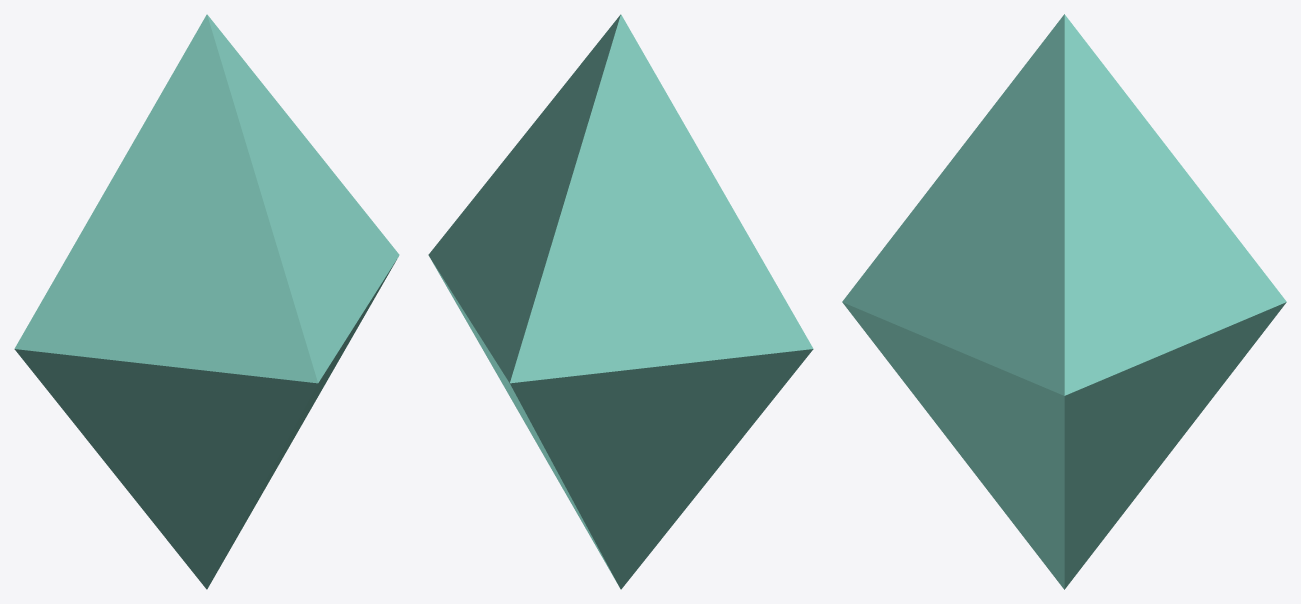
The model's file is srd52-monster-druid.glb.
3 views of the same model, side by side, from view 1: azimuth 30°, elevation 25°; view 2: azimuth 150°, elevation 25°; view 3: azimuth 270°, elevation 25° (orthographic).
Parts seen in each view (by area): view 1: Druid; view 2: Druid; view 3: Druid.
Part boxes in pixels (x1,y1,x2,y2): Druid: (14, 14, 399, 589); Druid: (428, 14, 813, 589); Druid: (842, 14, 1286, 589).
Size of the model in its own units: 1.4 by 2 by 1.4.
